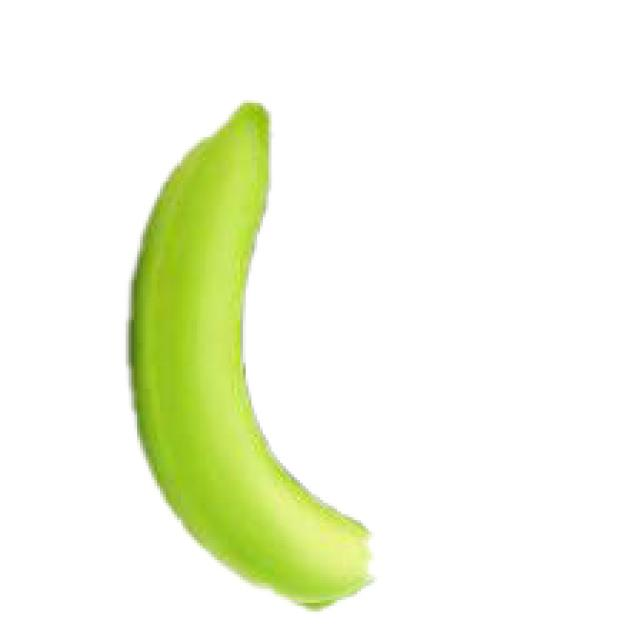fresh-banana: (126, 97, 374, 609)
